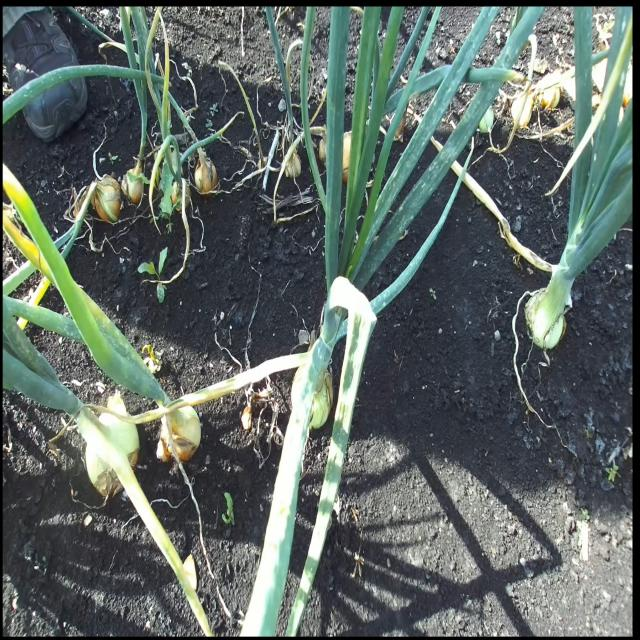onion: (76, 405, 140, 501), (157, 402, 201, 464), (524, 288, 565, 351), (308, 369, 334, 431), (92, 173, 122, 224), (121, 158, 146, 206), (194, 151, 218, 195), (171, 178, 191, 212)
